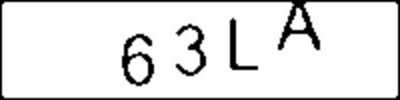3: (173, 22, 209, 78)
6: (119, 31, 158, 90)
A: (274, 1, 329, 58)
L: (225, 14, 263, 76)
